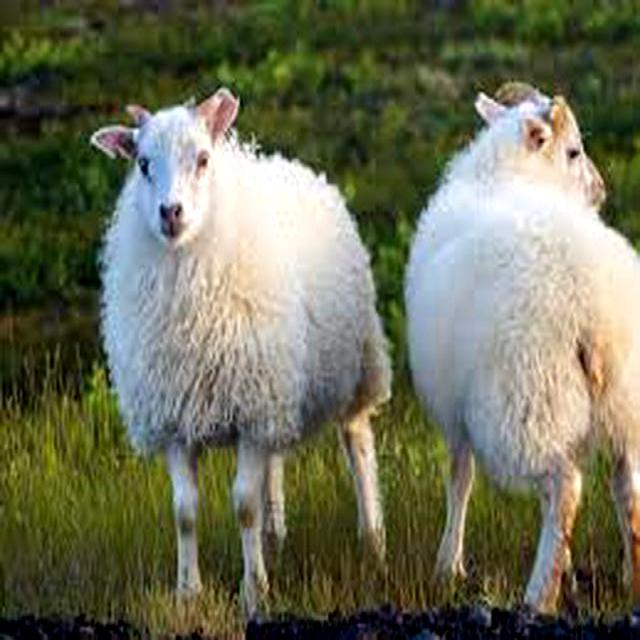sheep: (91, 88, 392, 619), (399, 76, 640, 620)
